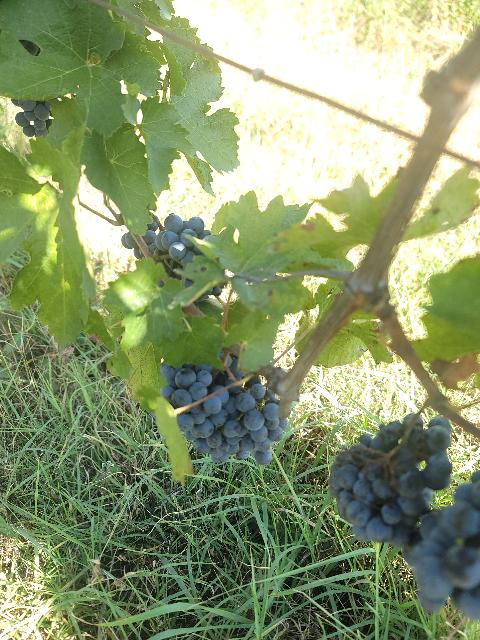grapes: (329, 414, 451, 548), (160, 351, 286, 465), (144, 214, 210, 279)
